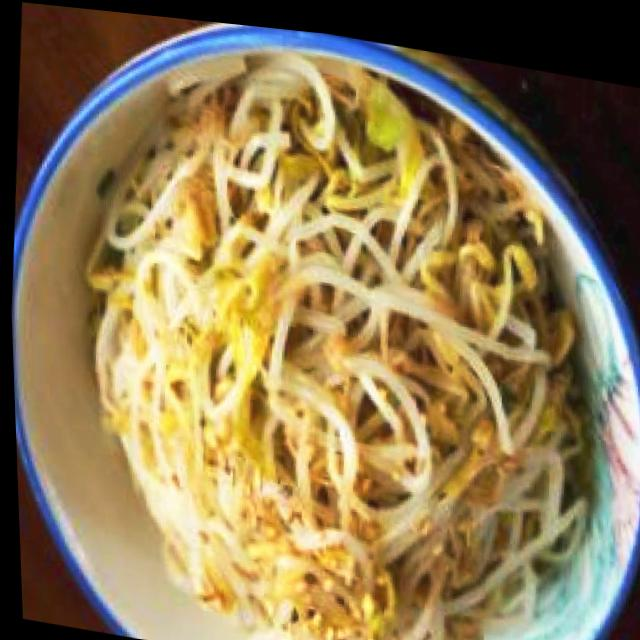mung_bean_sprouts: (61, 24, 618, 640)
